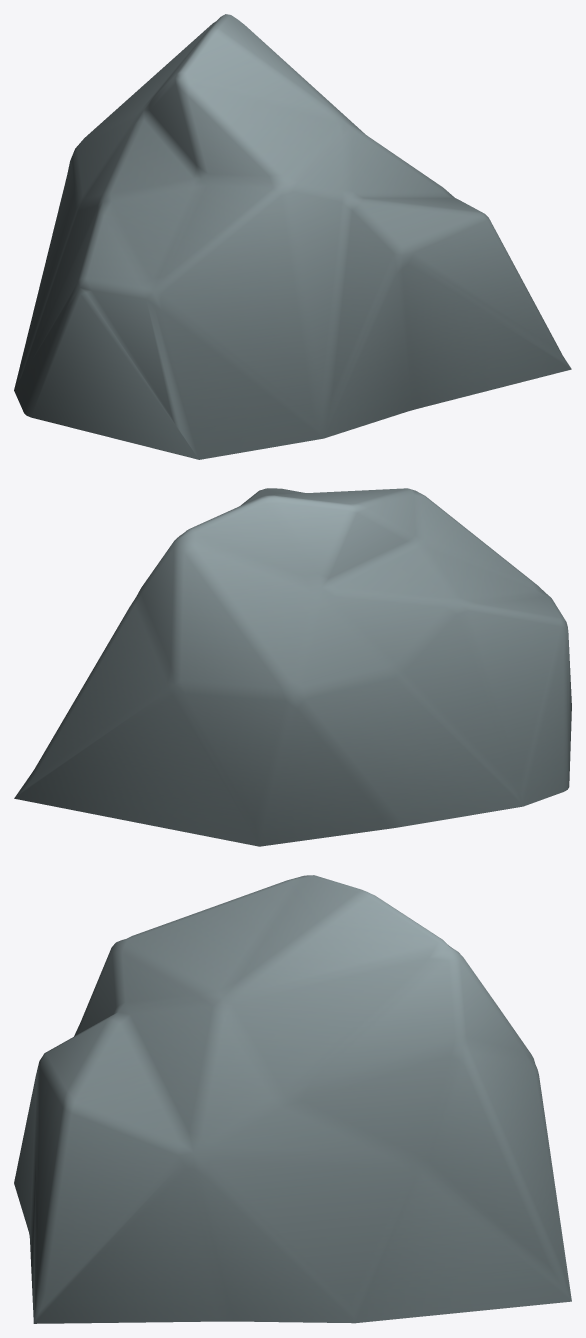
Rendered from Rock_02.fbx.
The picture shows the model from 3 angles, top to bottom: view 1: azimuth 30°, elevation 25°; view 2: azimuth 150°, elevation 25°; view 3: azimuth 270°, elevation 25°; orthographic projection. The views are drawn at different scales.
Parts seen in each view (by area): view 1: Rock_02; view 2: Rock_02; view 3: Rock_02.
Part boxes in pixels (x1=…): Rock_02: x1=14, y1=14, x2=571, y2=459; Rock_02: x1=14, y1=488, x2=571, y2=846; Rock_02: x1=14, y1=875, x2=571, y2=1323.
Size of the model in its own units: 2.35 by 1.39 by 2.22.
Materials: 1 (1 with a texture image).
